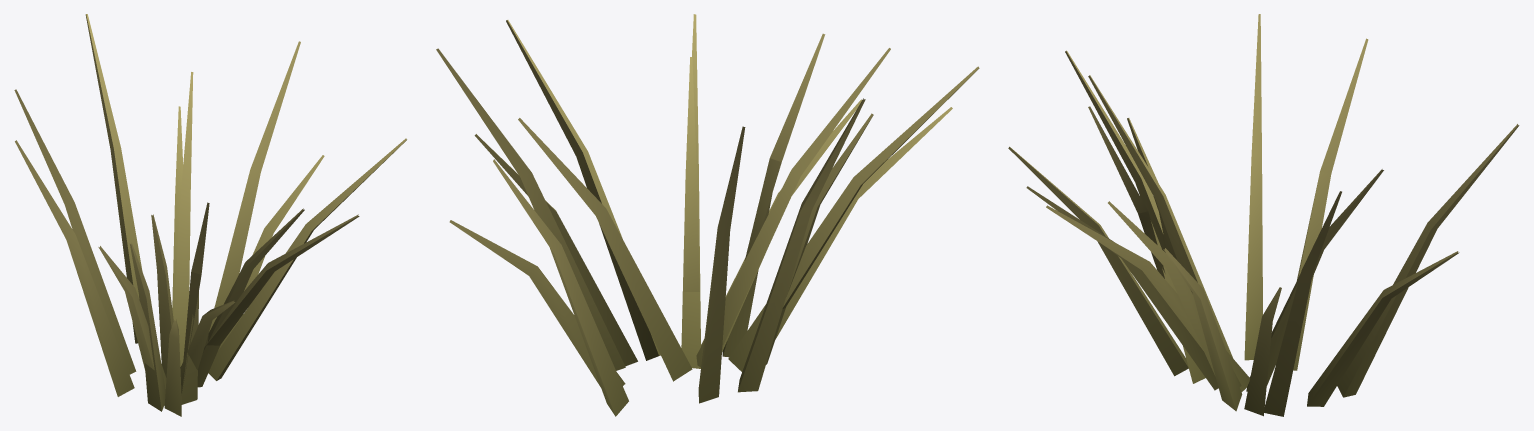
Rendered from tussock_grass.glb.
The picture shows the model from 3 angles, left to right: view 1: azimuth 30°, elevation 25°; view 2: azimuth 150°, elevation 25°; view 3: azimuth 270°, elevation 25°; orthographic projection. The views are drawn at different scales.
Parts seen in each view (by area): view 1: tussock_grass_mesh; view 2: tussock_grass_mesh; view 3: tussock_grass_mesh.
Part boxes in pixels (x1,y1,x2,y2): tussock_grass_mesh: (14, 14, 406, 416); tussock_grass_mesh: (436, 14, 979, 416); tussock_grass_mesh: (1008, 14, 1519, 416).
Bounding box in the file's own units: 1.26 × 0.9472 × 1.47.
